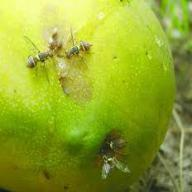apple: (10, 25, 162, 188)
